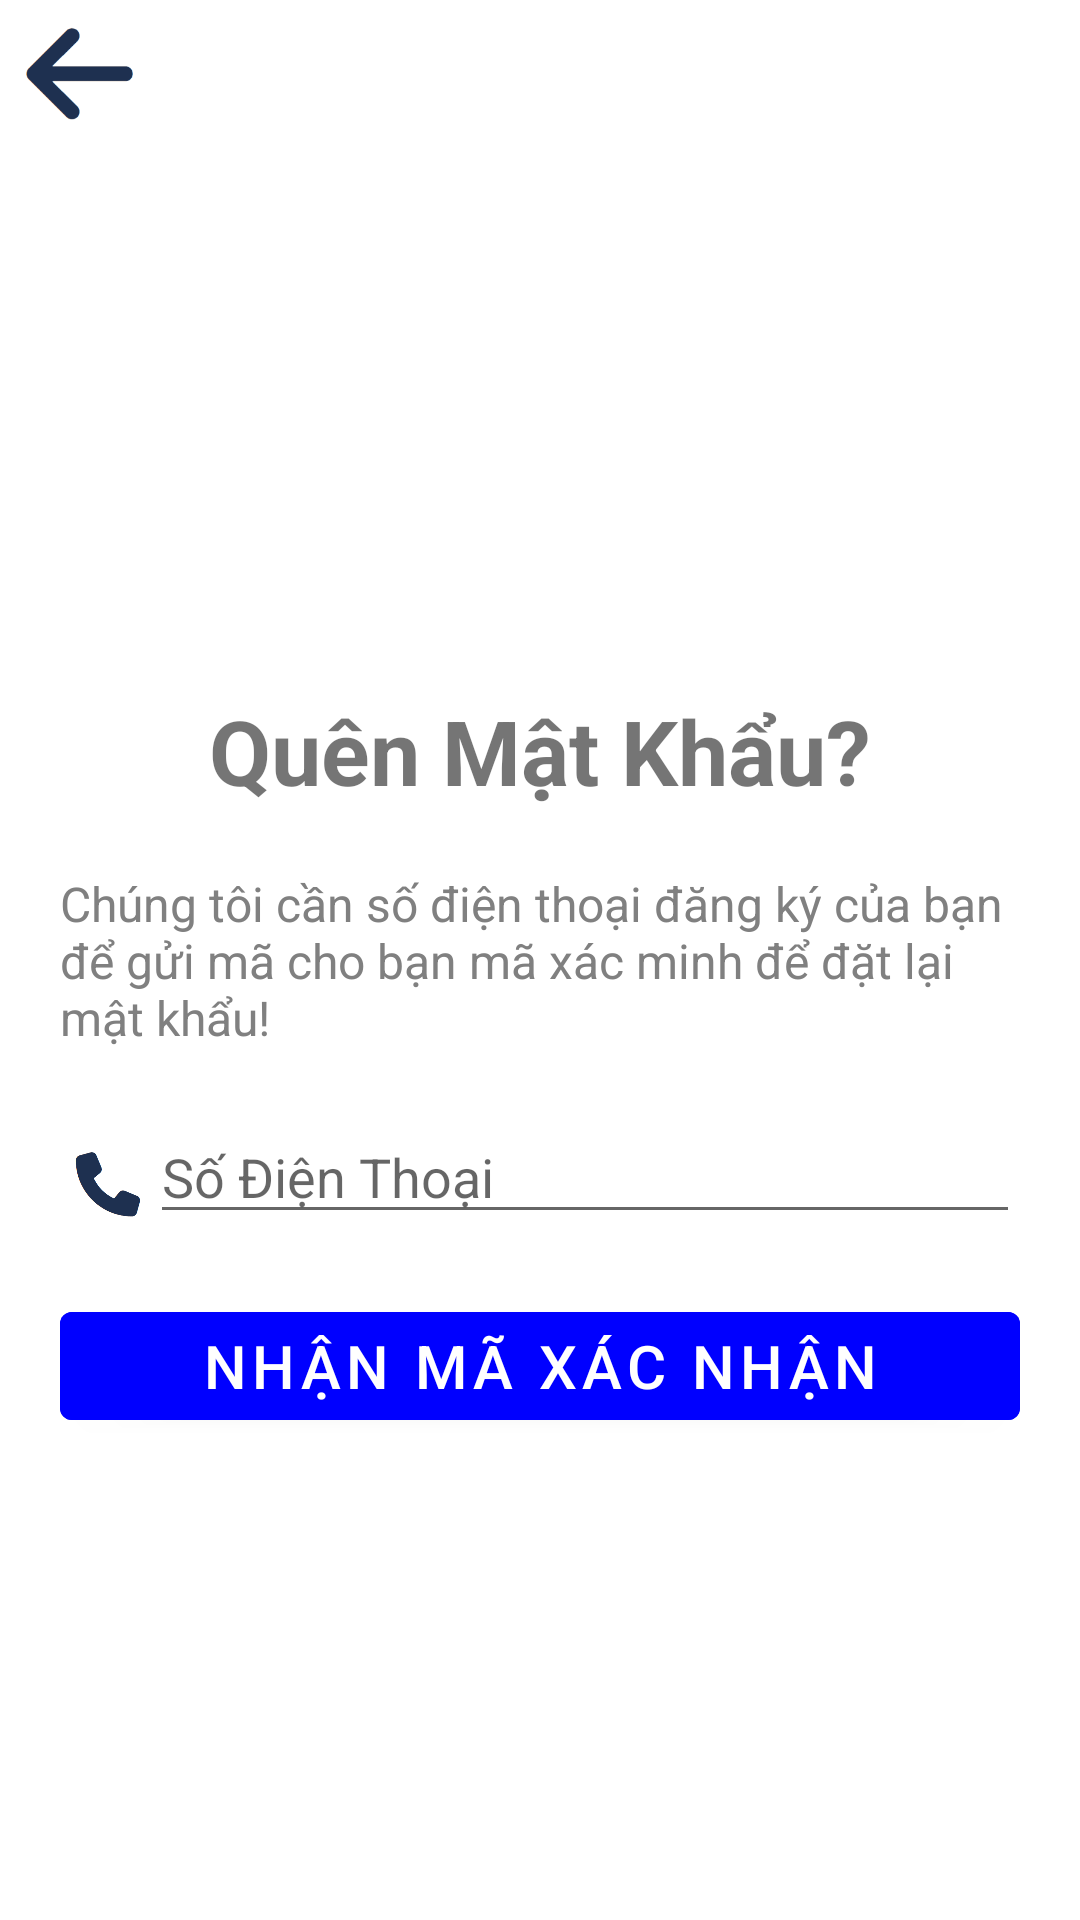

Icon click points for this 1080*1920 phone screenshot, format point (x, y):
back: point (79, 74)
phone: point (107, 1184)
